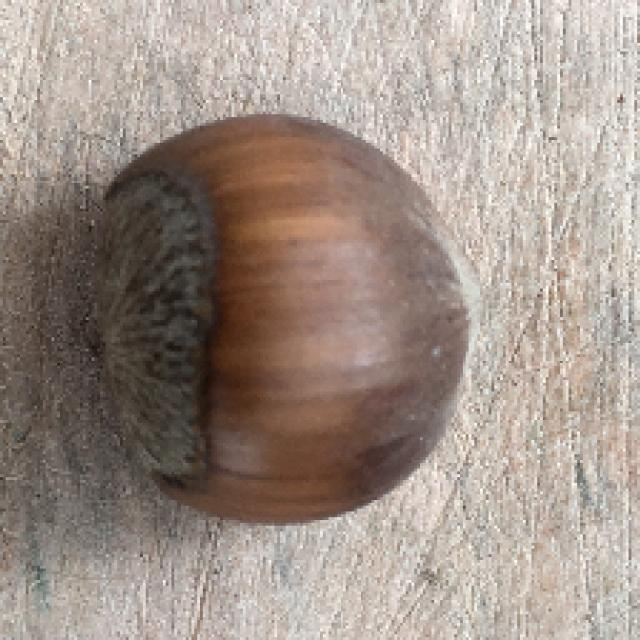damagedHazelnut: (84, 115, 482, 522)
